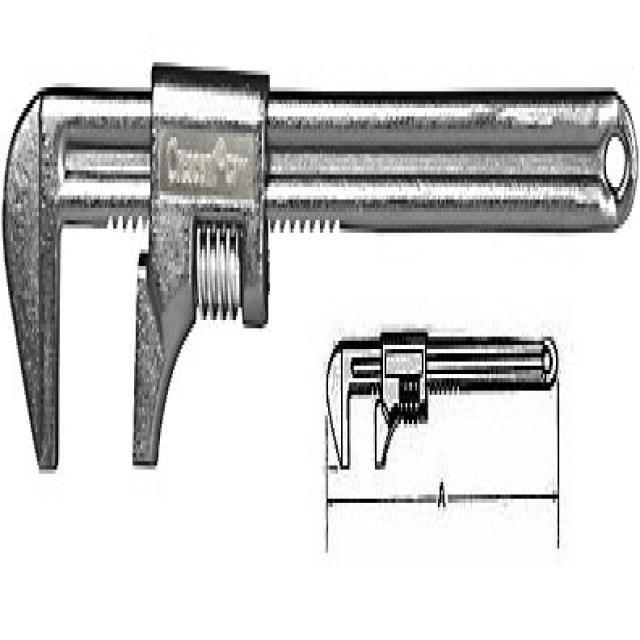wrench: (0, 44, 637, 483)
